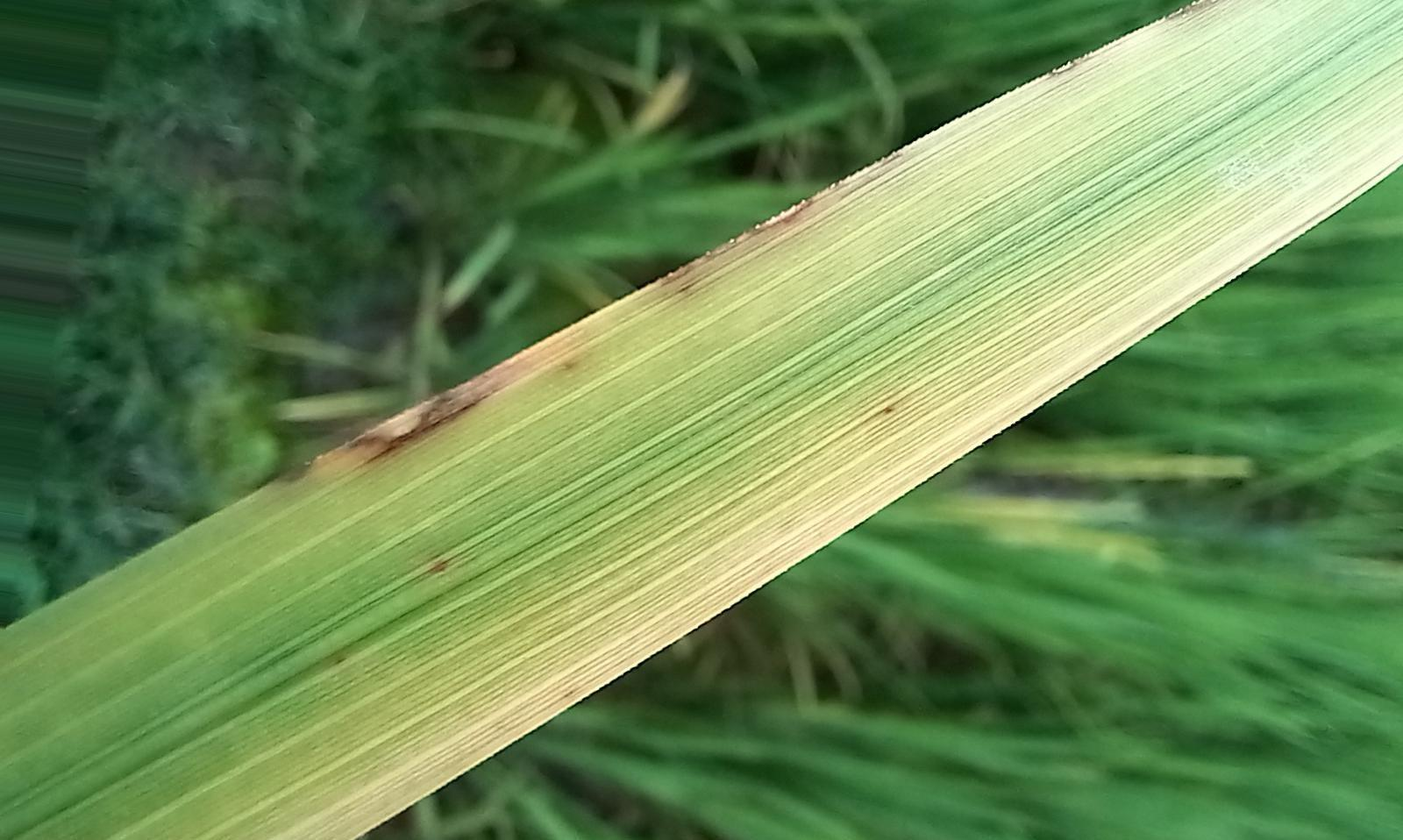LEAF BLAST: (335, 367, 501, 471)
